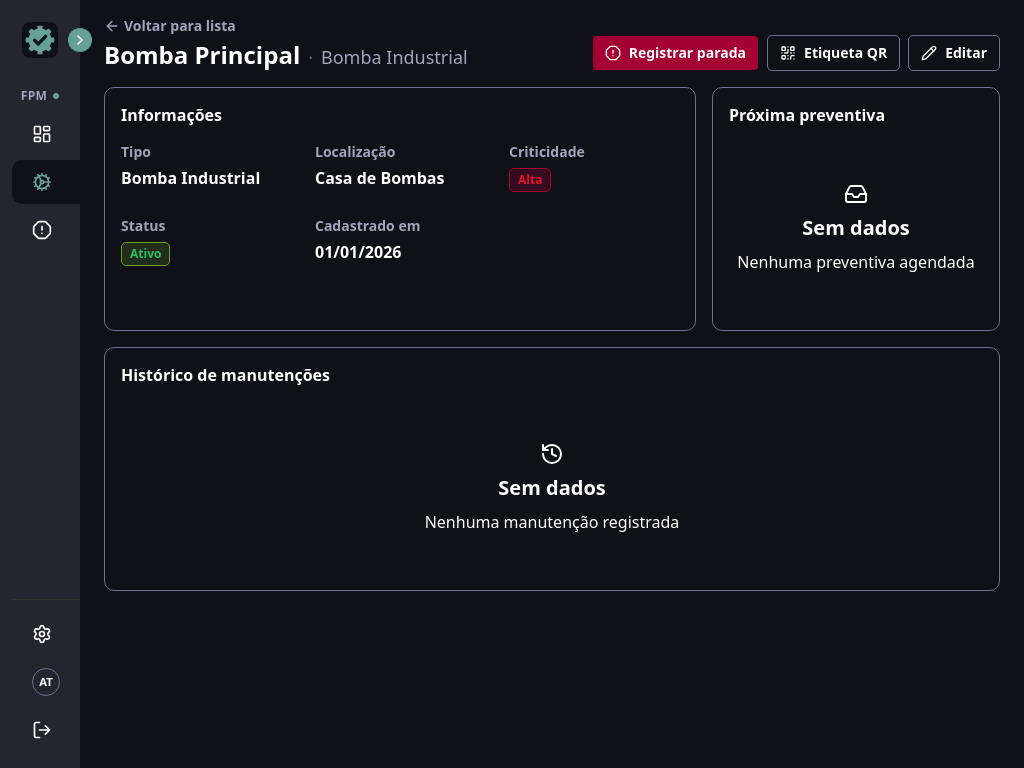
Test: Paradas › registra parada no detalhe do equipamento, com corretiva
Step 1. Click the button "Registrar parada" → x=675, y=53, box 592,35 -> 759,71
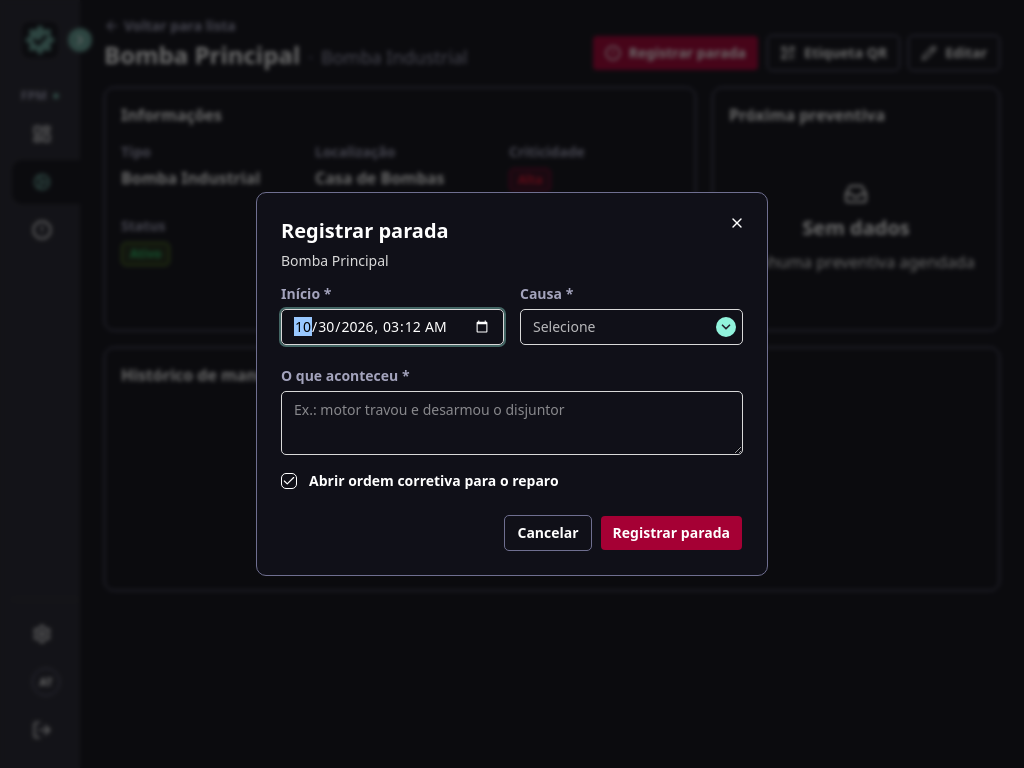
Note: Sem causa e descrição não envia
Step 2. Click the button "Registrar parada" → x=671, y=533, box 600,515 -> 743,551
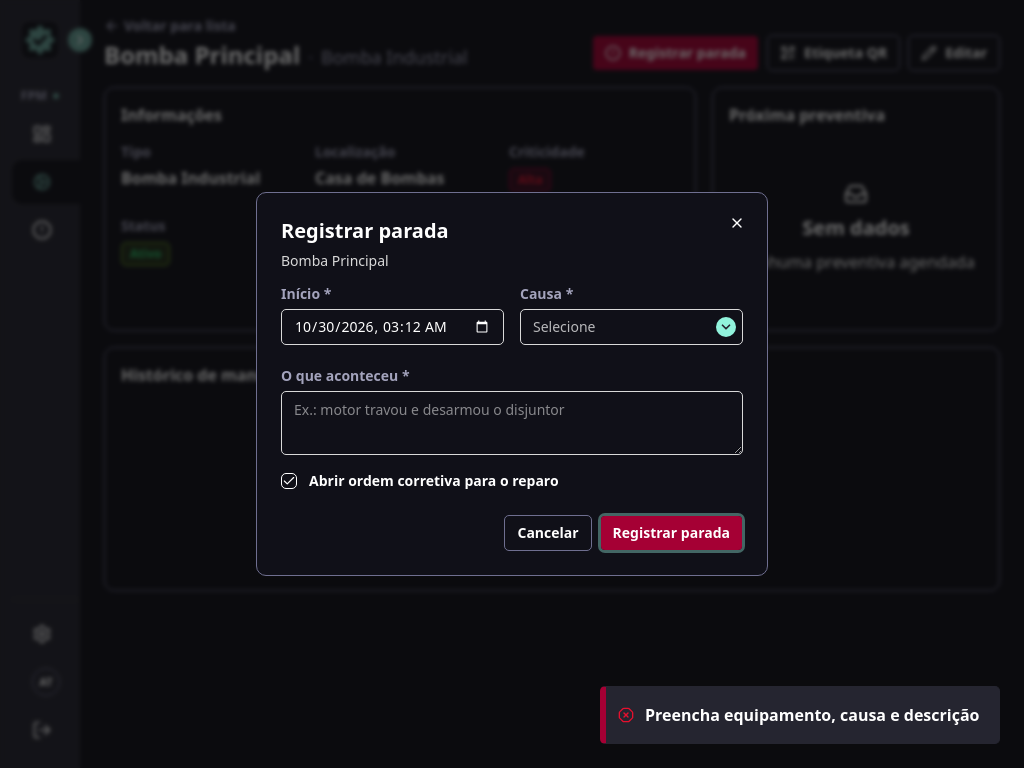
Expected: the text "Preencha equipamento, causa e descrição" is shown, 645,703 -> 980,727
Step 3. Click the dropdown named "Causa *" → x=632, y=327, box 520,309 -> 743,345
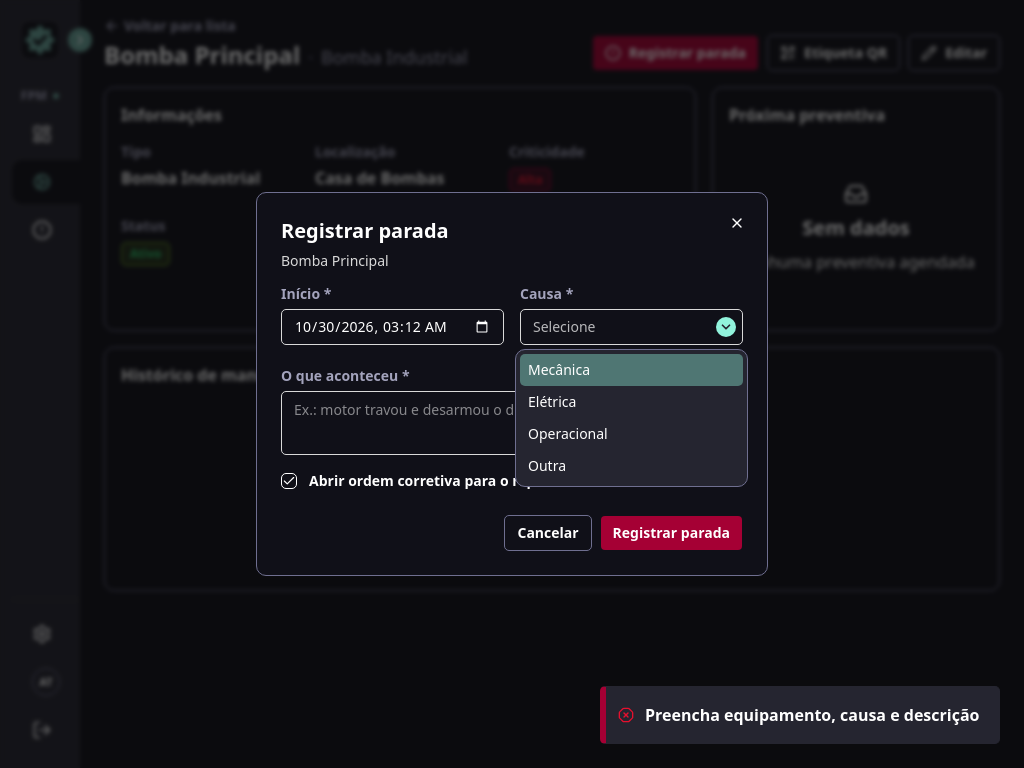
Step 4. Click the option "Mecânica" → x=632, y=370, box 520,354 -> 743,386
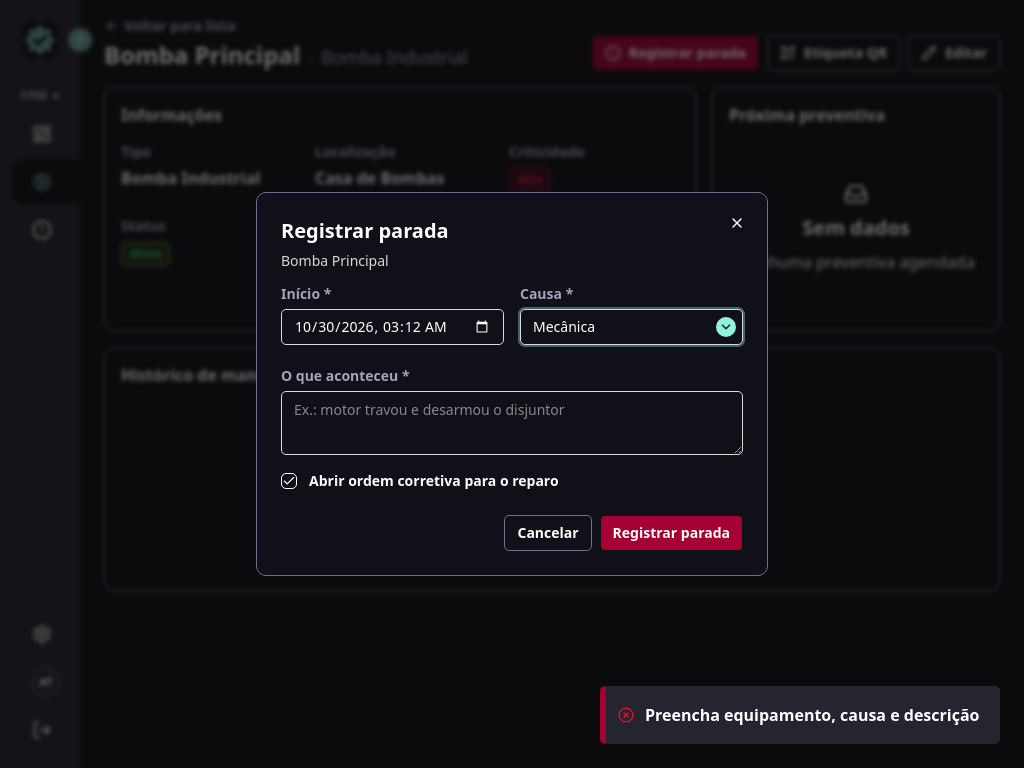
Step 5. Type "Selo vazando" into the text box labelled "O que aconteceu *" → x=512, y=423, box 281,391 -> 743,455
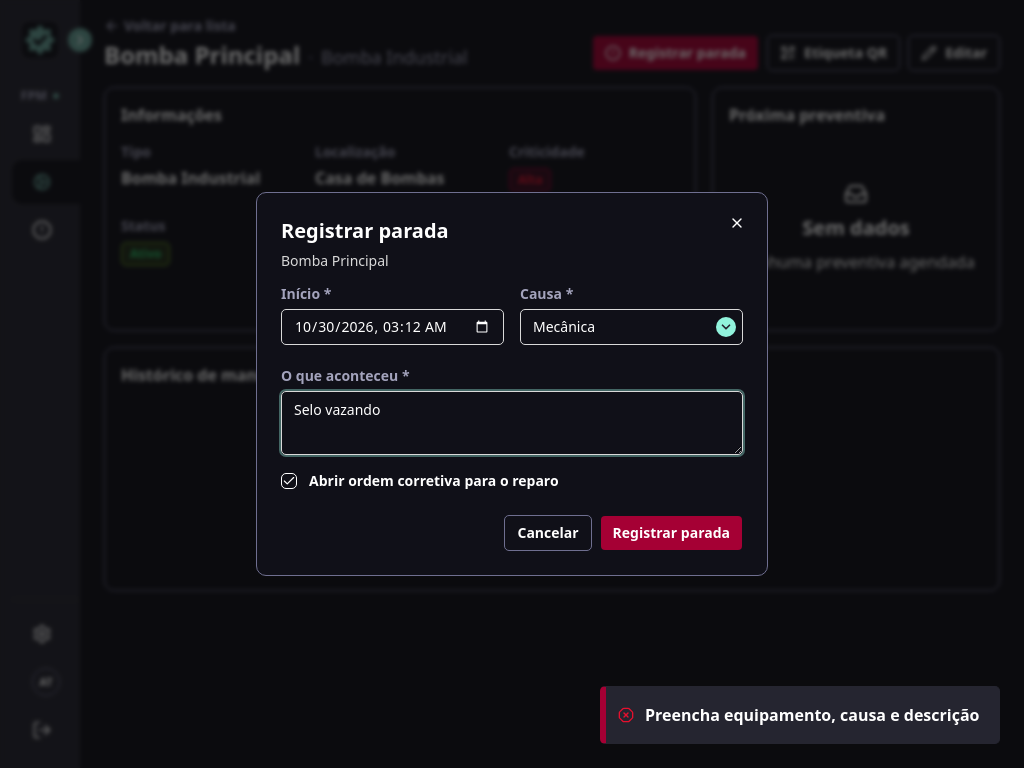
Step 6. Click the button "Registrar parada" → x=671, y=533, box 600,515 -> 743,551
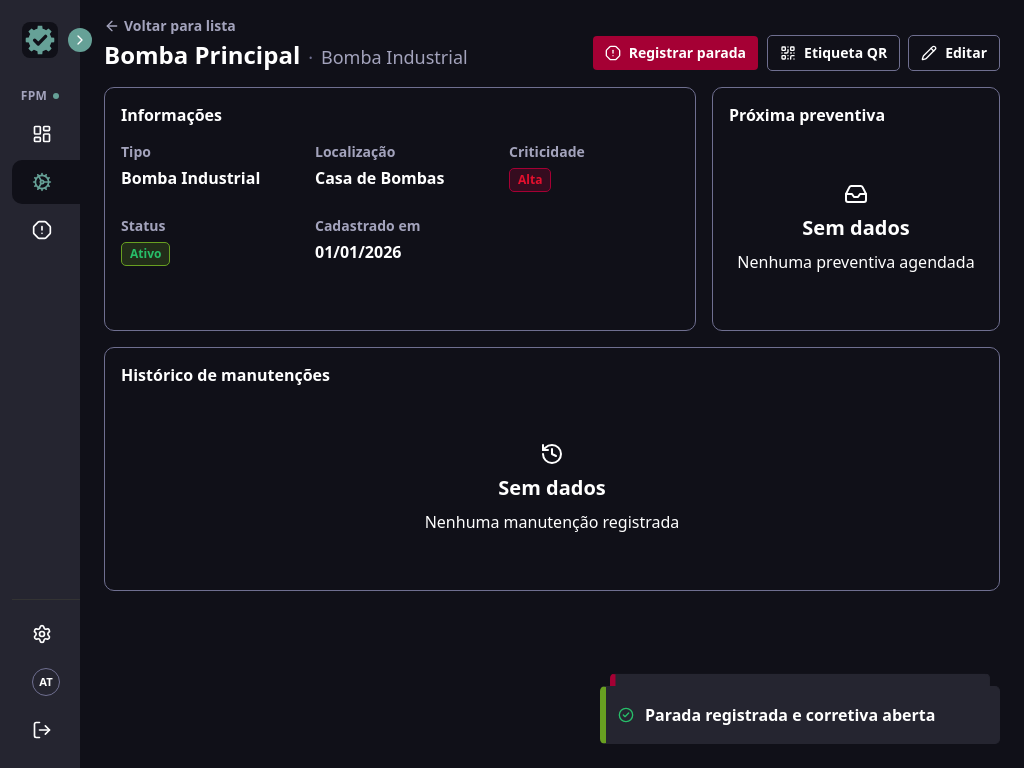
Expected: the text "Parada registrada e corretiva aberta" is shown, 645,703 -> 935,727
